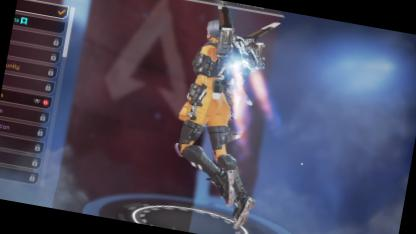Target: (164, 12, 266, 208)
